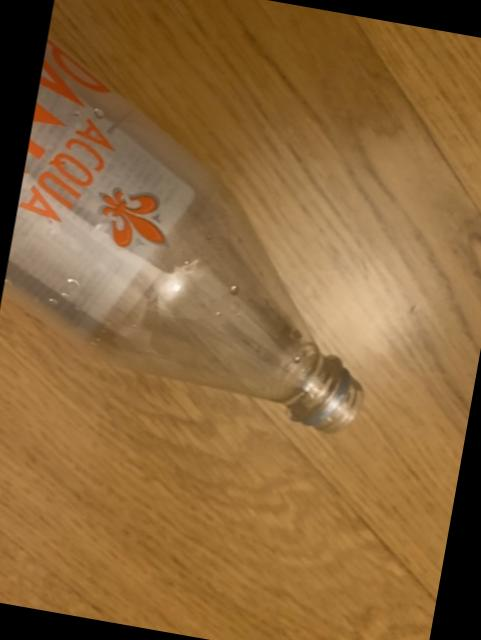plastic: (4, 41, 362, 434)
